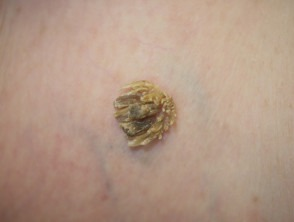Warts: (106, 76, 187, 152)
